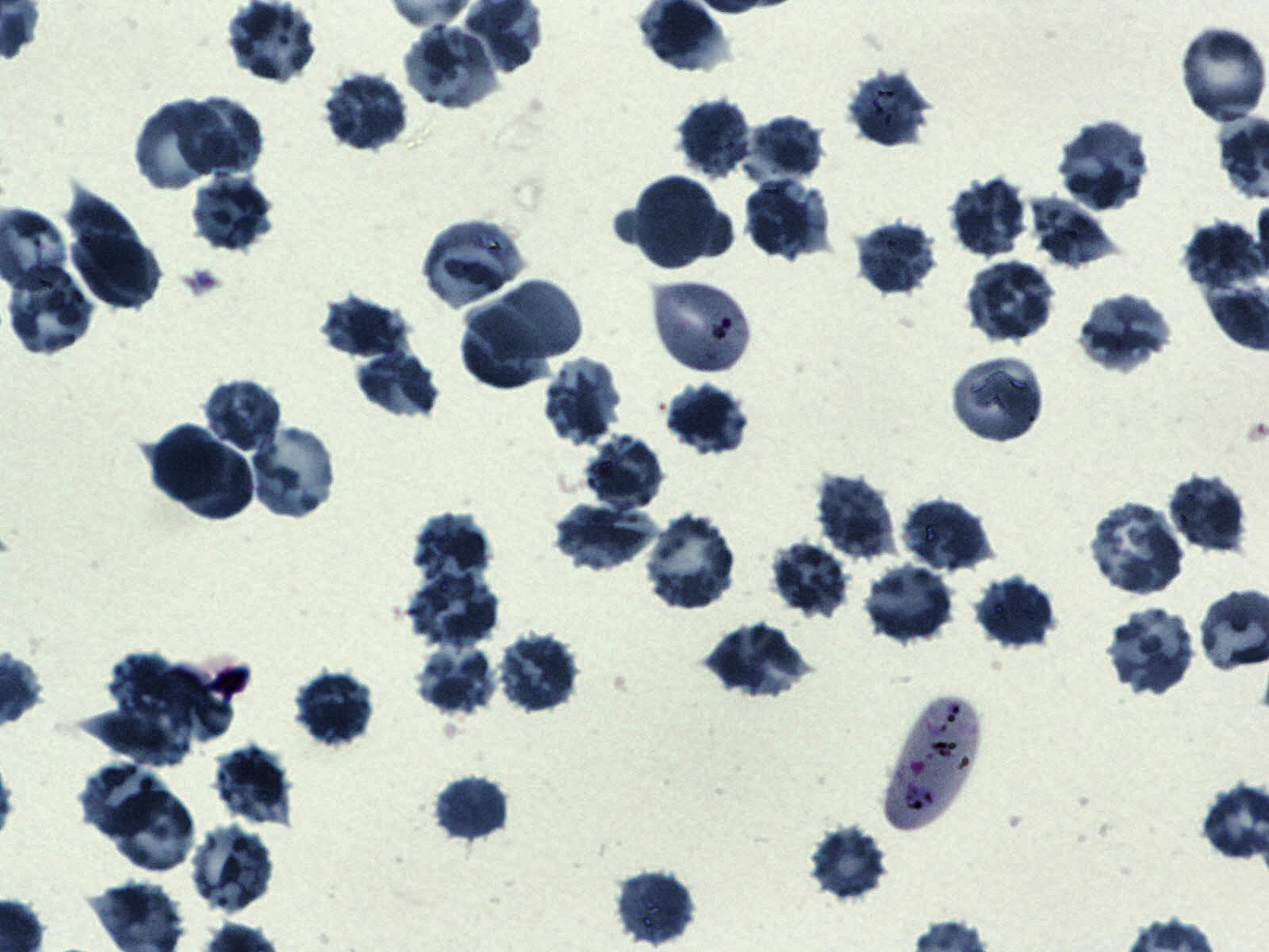Infected: (886, 694, 981, 831), (649, 281, 752, 375)
Uninfected: (467, 277, 578, 362), (1179, 22, 1268, 123), (426, 218, 525, 304), (643, 519, 738, 608), (1093, 506, 1187, 595), (104, 785, 197, 873), (247, 422, 335, 514), (1062, 123, 1152, 211), (9, 261, 92, 356), (189, 824, 276, 914), (555, 499, 658, 575), (408, 25, 497, 112), (953, 359, 1044, 442), (136, 102, 221, 190), (634, 178, 717, 268), (1079, 290, 1170, 372), (741, 178, 829, 260), (226, 1, 316, 81), (1110, 609, 1193, 695), (460, 308, 546, 390), (409, 570, 500, 647), (68, 234, 161, 309), (710, 627, 805, 700), (867, 563, 956, 640), (1031, 194, 1118, 272), (851, 217, 935, 297), (847, 67, 928, 148), (542, 360, 621, 443), (815, 475, 893, 559), (83, 762, 167, 840), (968, 262, 1054, 338), (679, 95, 755, 179), (215, 743, 291, 826), (142, 423, 222, 501), (584, 434, 666, 510), (191, 175, 274, 249), (975, 575, 1054, 652), (667, 384, 748, 459), (904, 500, 987, 573), (499, 635, 577, 712), (1168, 474, 1245, 552), (769, 539, 848, 615), (354, 351, 440, 420), (297, 670, 374, 747), (186, 94, 262, 171), (415, 515, 491, 592), (618, 866, 693, 944), (325, 75, 405, 148), (955, 179, 1029, 256), (320, 297, 410, 360), (740, 117, 826, 182), (206, 378, 279, 453), (811, 829, 887, 901), (185, 443, 255, 521), (435, 775, 510, 843), (418, 644, 493, 712)
